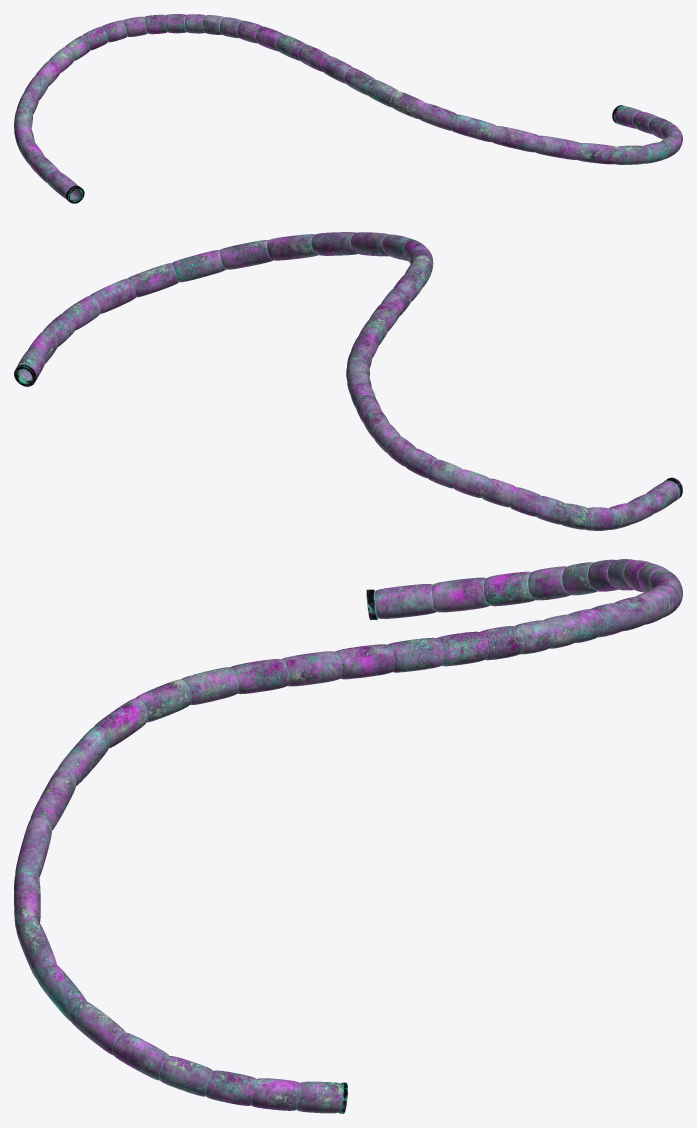
Rendered from Tubo.fbx.
The picture shows the model from 3 angles, top to bottom: view 1: azimuth 30°, elevation 25°; view 2: azimuth 150°, elevation 25°; view 3: azimuth 270°, elevation 25°; orthographic projection. The views are drawn at different scales.
Visible parts, largest first — view 1: tubo; view 2: tubo; view 3: tubo.
Boxes of the visible parts, x1,y1,x2,y2 form: tubo: (14,14,682,203); tubo: (14,232,682,530); tubo: (14,559,682,1113).
Bounding box in the file's own units: 12.97 × 3.17 × 8.31.
